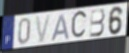0: (17, 17, 32, 46)
6: (108, 5, 124, 36)
A: (50, 13, 71, 42)
B: (89, 8, 106, 39)
C: (70, 9, 88, 42)
V: (34, 13, 52, 44)
